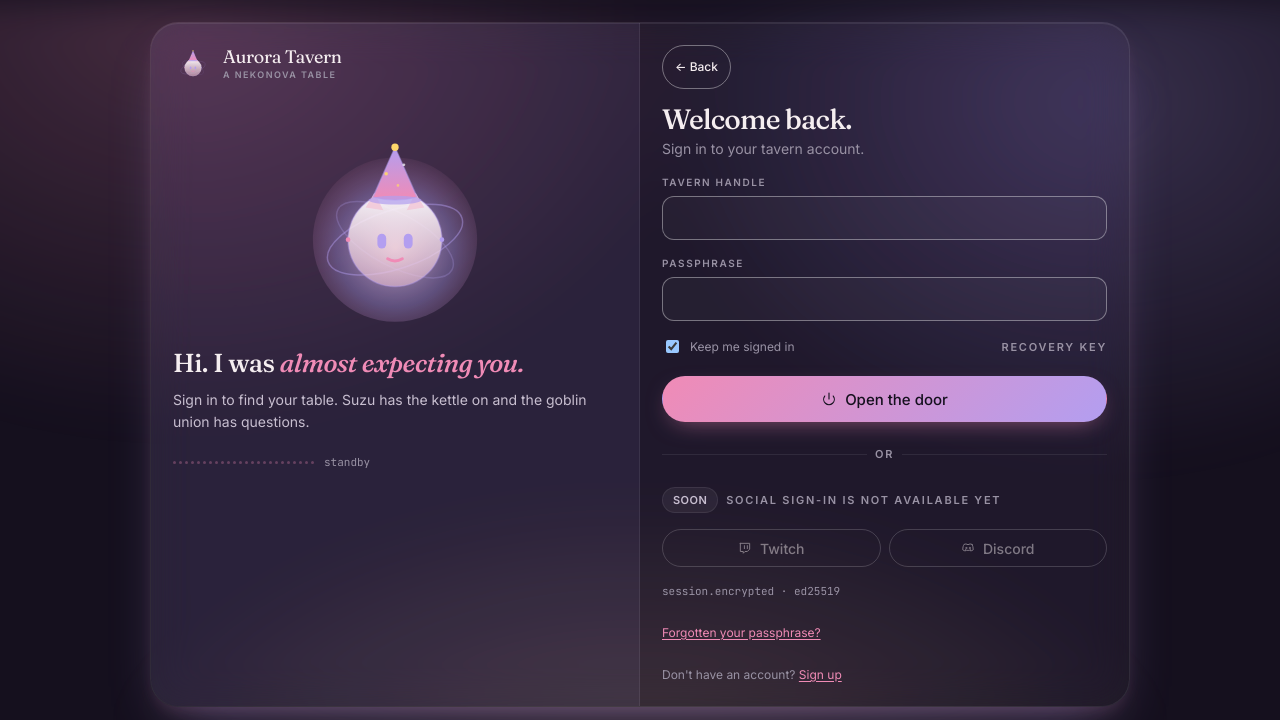
Scenario: wrong passphrase with a live refresh cookie sends the login once, not twice
Type "alice" into the field labelled "Tavern handle" at (884, 218), box [662, 196, 1107, 240]
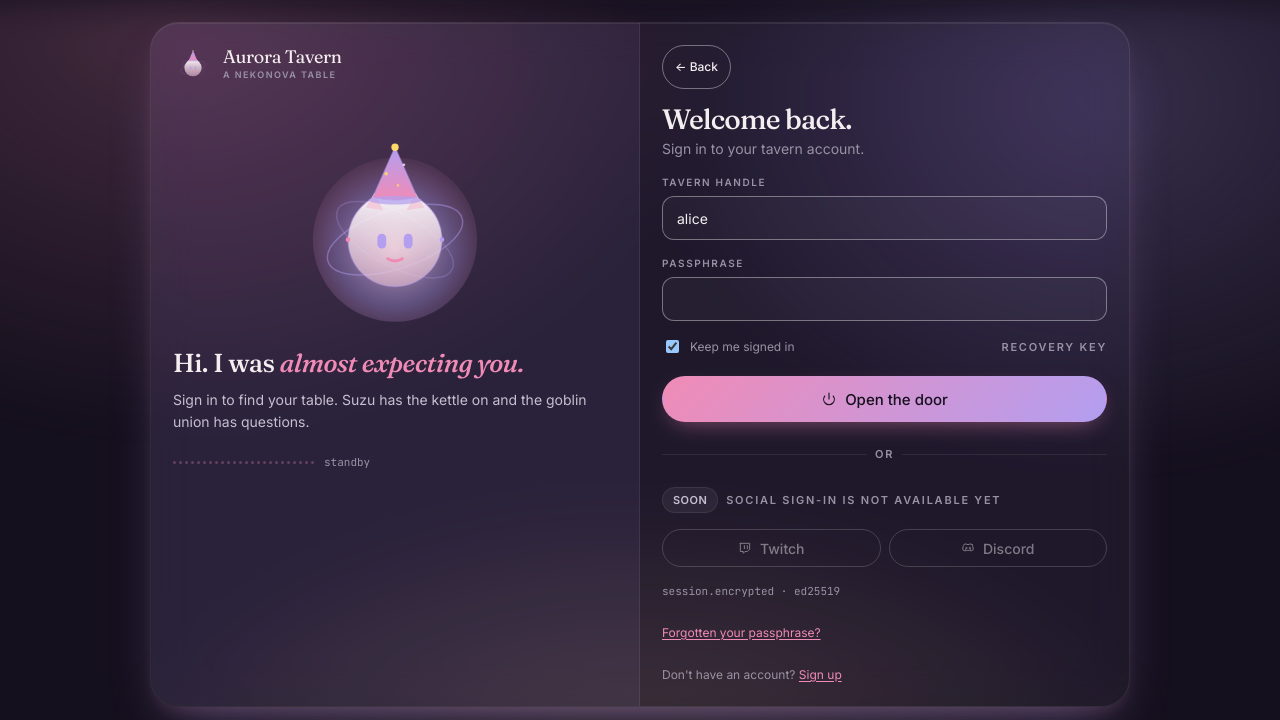
Type "right-one" into the password field labelled "Passphrase" at (884, 299), box [662, 277, 1107, 321]
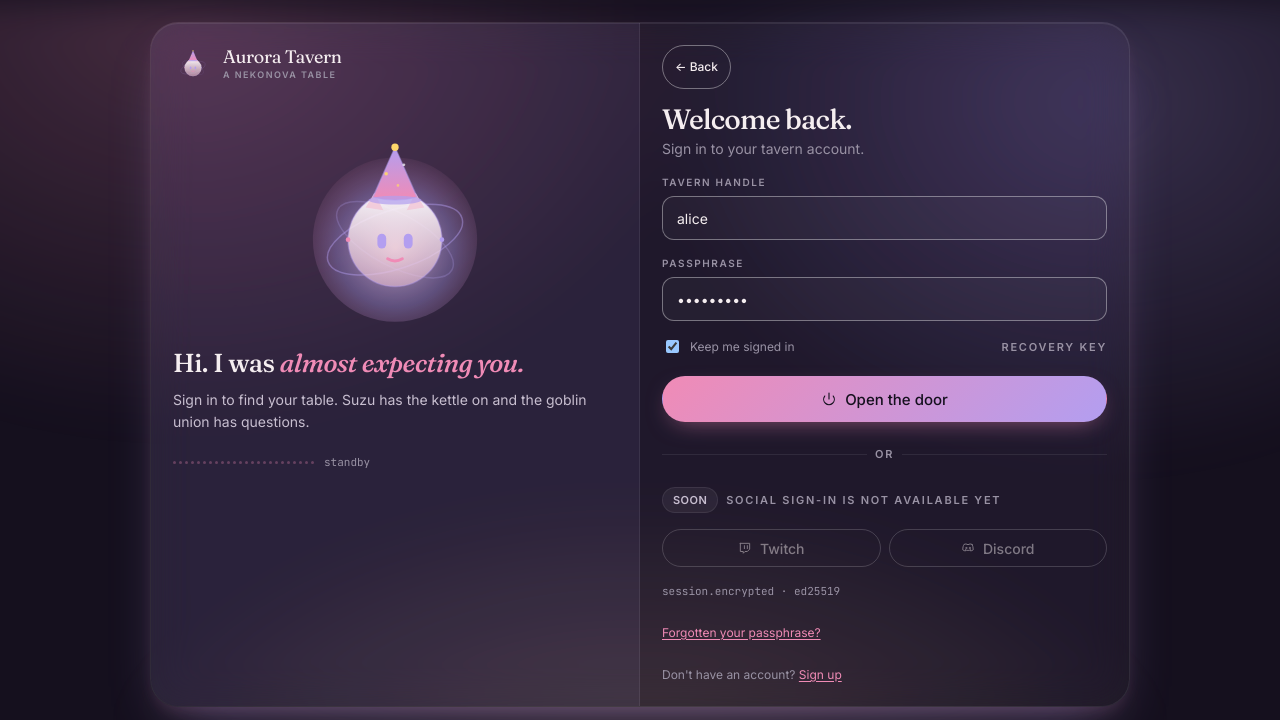
Submit the form labelled "Tavern handle", box [640, 23, 1129, 706]
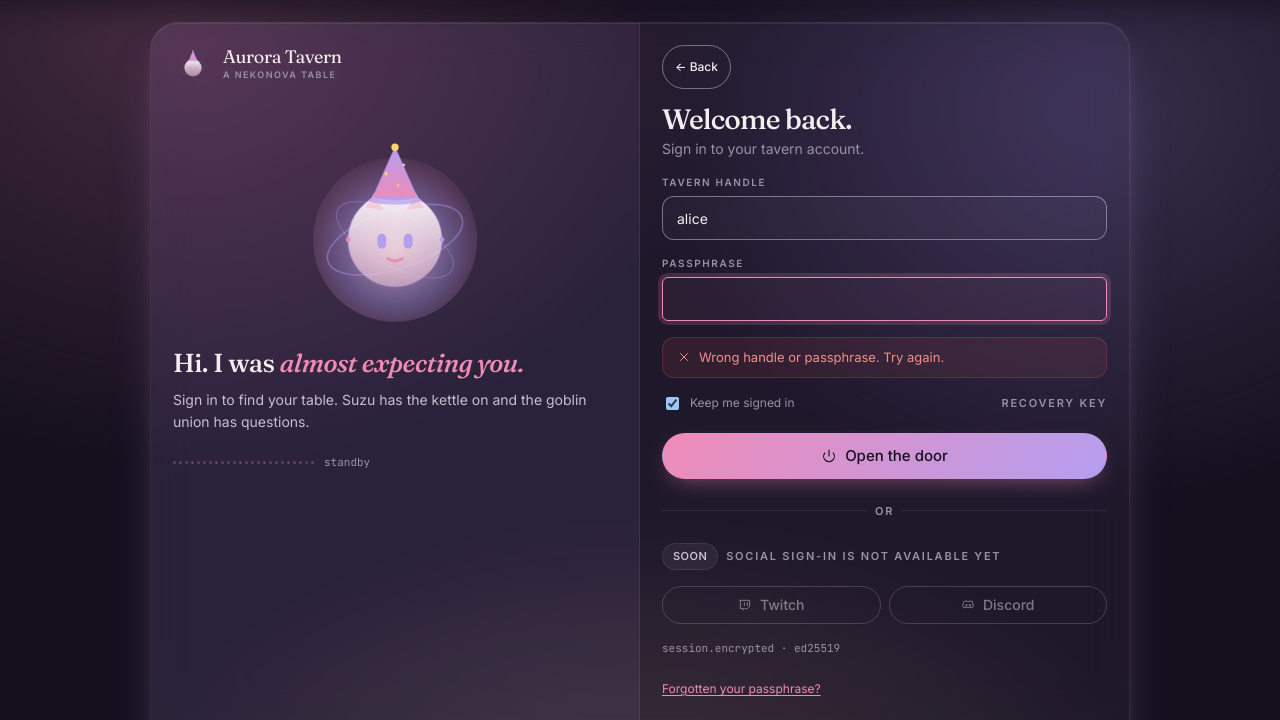
Result: the message shows "Wrong handle or passphrase" at [699, 349, 944, 365]
